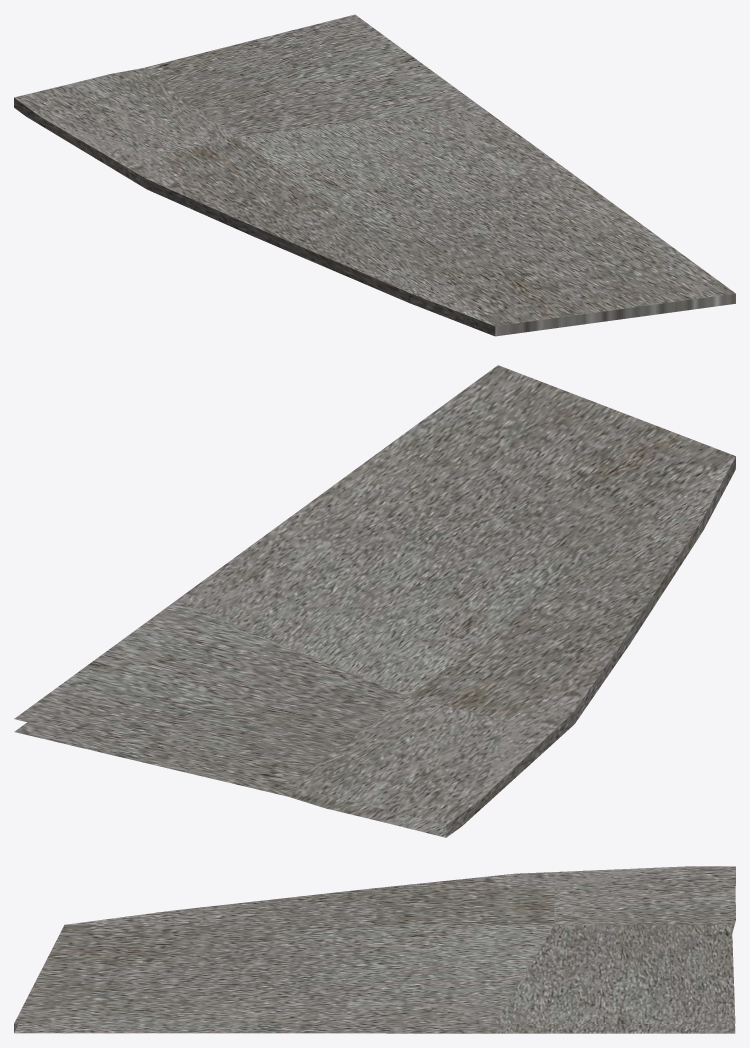
The model's file is chão audio2.fbx.
The picture shows the model from 3 angles, top to bottom: view 1: azimuth 30°, elevation 25°; view 2: azimuth 150°, elevation 25°; view 3: azimuth 270°, elevation 25°; orthographic projection. The views are drawn at different scales.
Visible parts, largest first — view 1: sala de audio; view 2: sala de audio; view 3: sala de audio.
Boxes of the visible parts, x1,y1,x2,y2 form: sala de audio: (14,14,735,336); sala de audio: (14,365,735,837); sala de audio: (14,866,735,1033).
Size of the model in its own units: 3.49 by 0.1001 by 6.76.
1 material, 1 textured.
